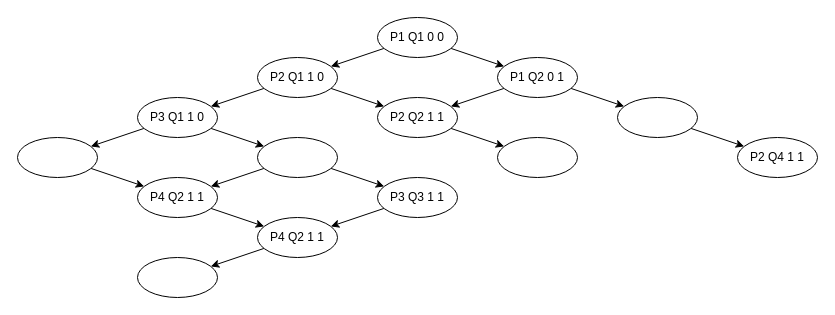
Image size: 835x315. Some labels were removed from this diagram. The shapes that lost their labels are listed below. From the top down, each one's box as (x1, y1, x2, y2) in pixels, then its label:
(616, 96, 698, 138): P1 Q4 0 1
(16, 136, 98, 178): P4 Q1 1 0
(256, 136, 338, 178): P3 Q2 1 1
(496, 136, 578, 178): P2 Q3 1 1
(136, 256, 218, 298): P1 Q3 0 1
